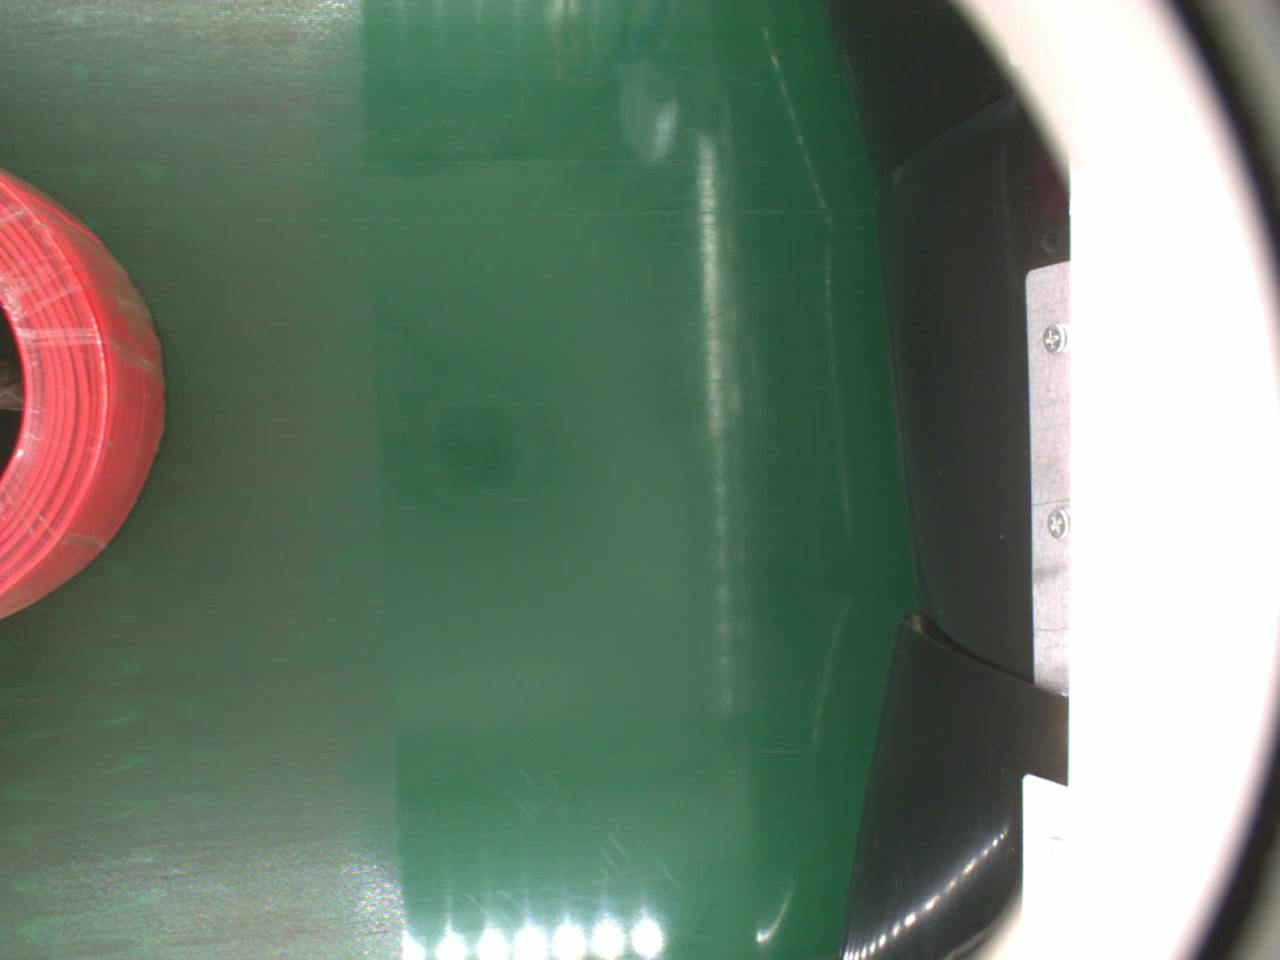red: (0, 165, 164, 616)
